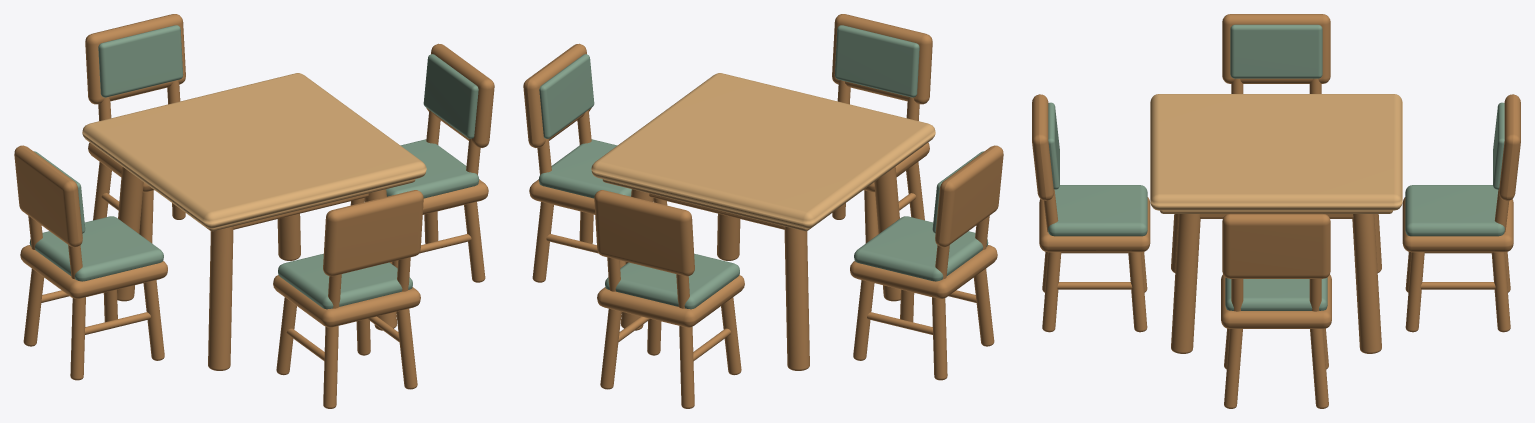
The model's file is dining-square-four.glb.
3 views of the same model, side by side, from view 1: azimuth 30°, elevation 25°; view 2: azimuth 150°, elevation 25°; view 3: azimuth 270°, elevation 25° (orthographic).
Parts seen in each view (by area): view 1: dining-square-four table, dining-square-four chair 3, dining-square-four chair 4, dining-square-four chair 2, dining-square-four chair 1; view 2: dining-square-four table, dining-square-four chair 1, dining-square-four chair 4, dining-square-four chair 2, dining-square-four chair 3; view 3: dining-square-four table, dining-square-four chair 2, dining-square-four chair 1, dining-square-four chair 3, dining-square-four chair 4.
Boxes of the visible parts, box(x1,y1,x2,y2) form: dining-square-four table: box(82, 73, 426, 370); dining-square-four chair 3: box(273, 190, 423, 408); dining-square-four chair 4: box(14, 145, 167, 380); dining-square-four chair 2: box(350, 43, 494, 282); dining-square-four chair 1: box(85, 14, 185, 243); dining-square-four table: box(591, 73, 935, 370); dining-square-four chair 1: box(594, 190, 744, 408); dining-square-four chair 4: box(850, 145, 1003, 380); dining-square-four chair 2: box(523, 43, 667, 282); dining-square-four chair 3: box(832, 14, 932, 243); dining-square-four table: box(1150, 94, 1402, 353); dining-square-four chair 2: box(1221, 213, 1331, 408); dining-square-four chair 1: box(1402, 94, 1520, 332); dining-square-four chair 3: box(1032, 94, 1150, 332); dining-square-four chair 4: box(1222, 14, 1330, 93).
Bounding box in the file's own units: 1.94 × 0.8608 × 1.94.
